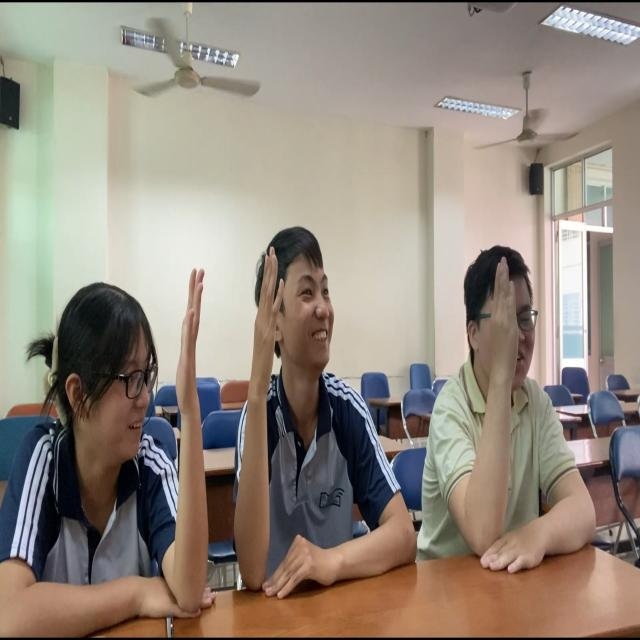raise_hand: (1, 243, 216, 640), (231, 222, 418, 591), (434, 247, 601, 574)
